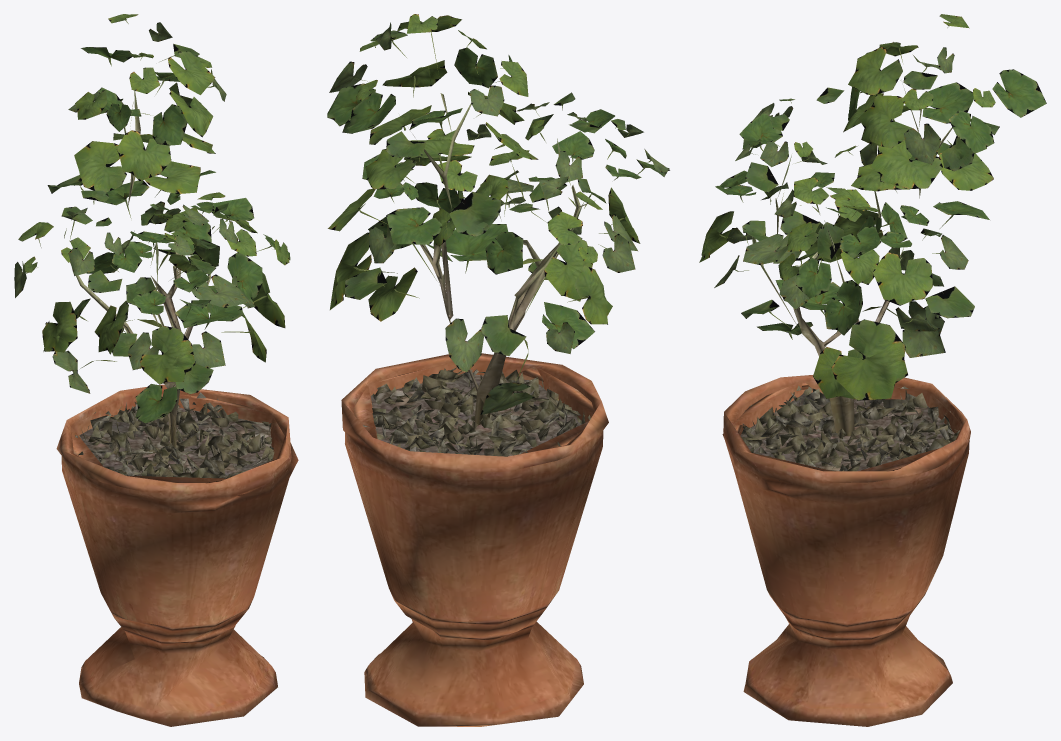
File: potted_plant_01.glb
3 views of the same model, side by side, from view 1: azimuth 30°, elevation 25°; view 2: azimuth 150°, elevation 25°; view 3: azimuth 270°, elevation 25° (orthographic). The views are drawn at different scales.
Visible parts, largest first — view 1: potted_plant_01_stem, potted_plant_01_leaves, potted_plant_01_leaves_lo, potted_plant_01_stem_lo; view 2: potted_plant_01_stem, potted_plant_01_leaves, potted_plant_01_leaves_lo, potted_plant_01_stem_lo; view 3: potted_plant_01_stem, potted_plant_01_leaves, potted_plant_01_leaves_lo, potted_plant_01_stem_lo.
Boxes of the visible parts, <box> form: potted_plant_01_stem: <box>56,90,298,726</box>; potted_plant_01_leaves: <box>14,14,290,423</box>; potted_plant_01_leaves_lo: <box>14,14,289,422</box>; potted_plant_01_stem_lo: <box>71,130,284,718</box>; potted_plant_01_stem: <box>341,89,608,726</box>; potted_plant_01_leaves: <box>327,14,666,412</box>; potted_plant_01_leaves_lo: <box>328,14,669,414</box>; potted_plant_01_stem_lo: <box>353,141,594,715</box>; potted_plant_01_stem: <box>722,88,970,726</box>; potted_plant_01_leaves: <box>699,14,1046,399</box>; potted_plant_01_leaves_lo: <box>702,14,1046,400</box>; potted_plant_01_stem_lo: <box>725,131,962,720</box>.
Bounding box in the file's own units: 0.5866 × 1.33 × 0.6336.
Materials: 2 (2 with a texture image).
